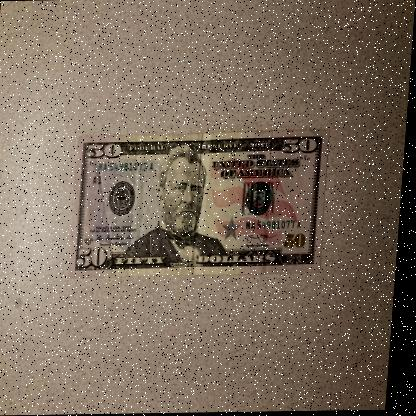fifty-front: (69, 130, 332, 280)
